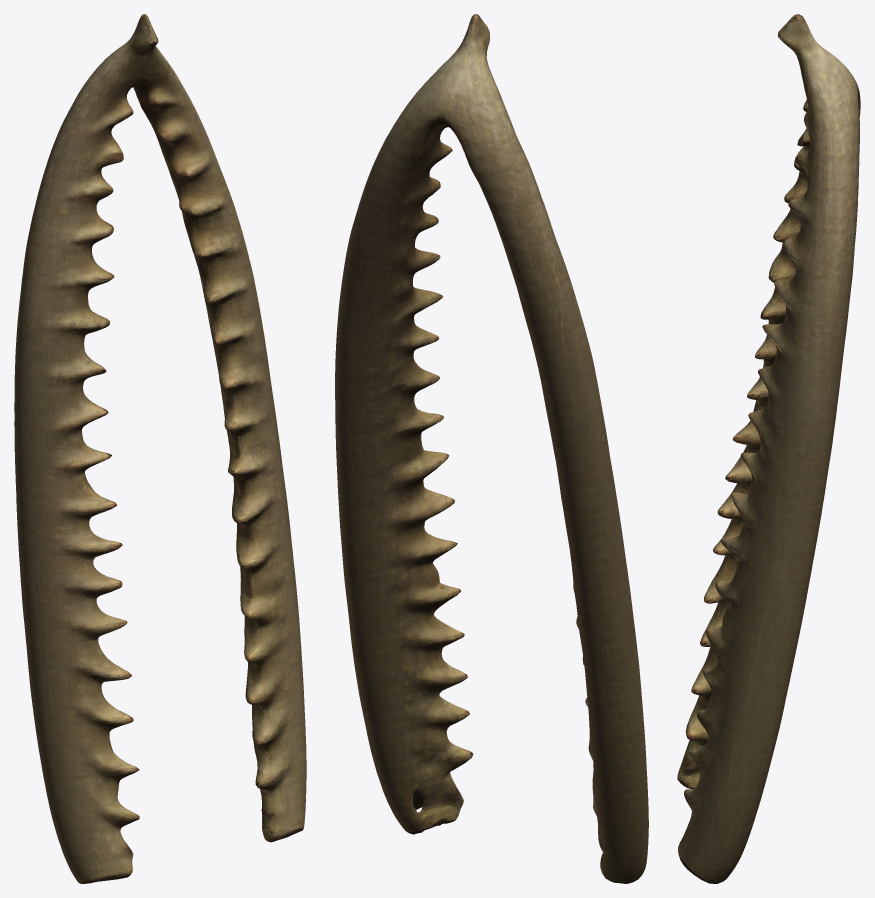
The picture shows the model from 3 angles, left to right: view 1: azimuth 30°, elevation 25°; view 2: azimuth 150°, elevation 25°; view 3: azimuth 270°, elevation 25°; orthographic projection. The views are drawn at different scales.
Visible parts, largest first — view 1: world; view 2: world; view 3: world.
Part boxes in pixels (x1,y1,x2,y2): world: (14,14,306,883); world: (335,14,648,883); world: (677,14,860,883).
Bounding box in the file's own units: 0.0186 × 0.055 × 0.0112.
1 material, 1 textured.
